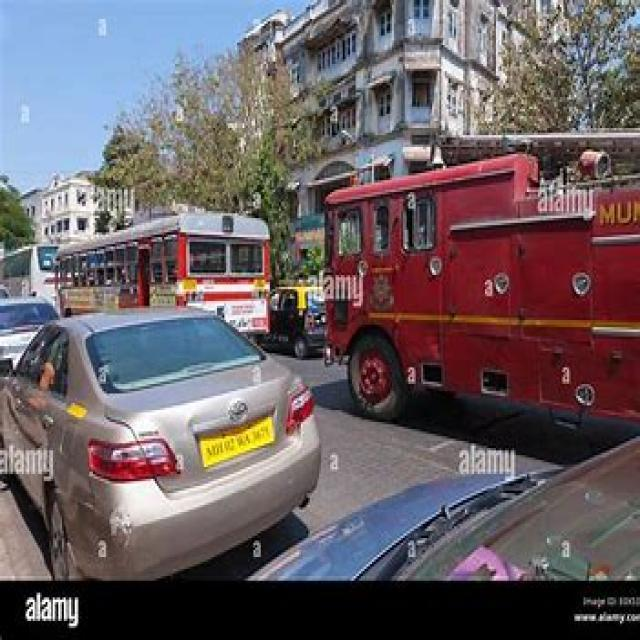Fire-engine: (321, 138, 638, 430)
